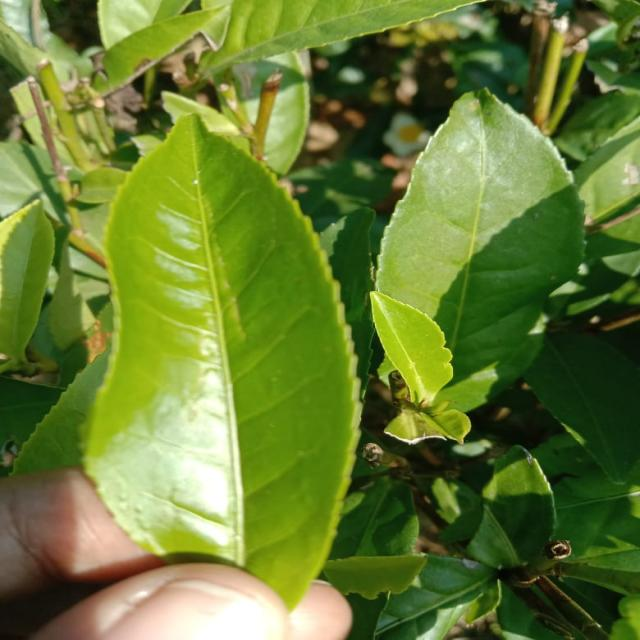Category B(2-4 days): (81, 98, 384, 610)
